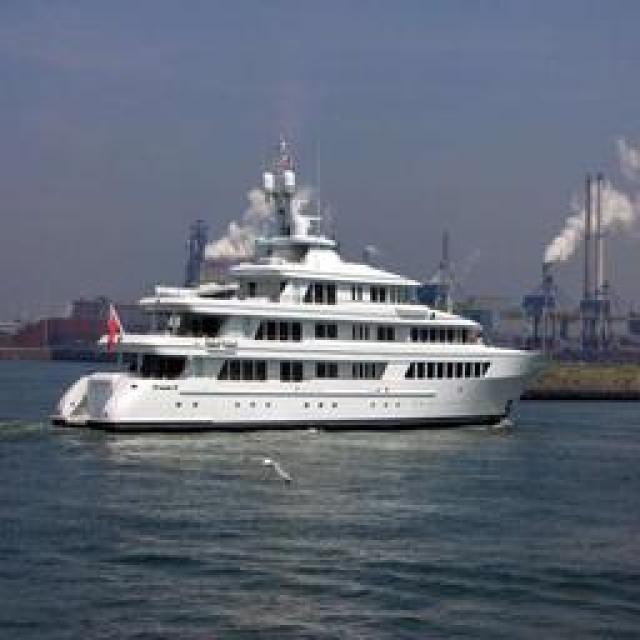ship2: (51, 141, 542, 437)
